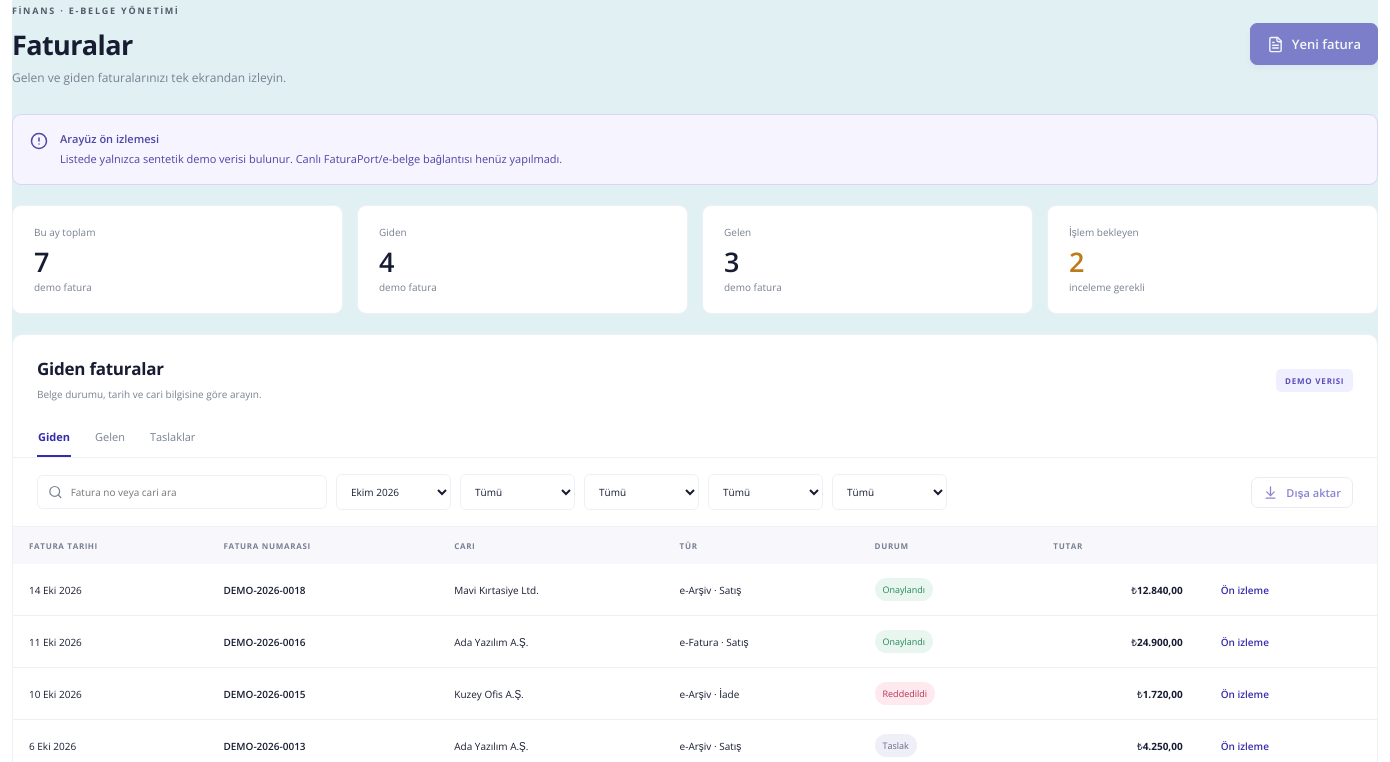
it: shows the outgoing demo list and filters by invoice or account name
Expected: the text "DEMO-2026-0018" is shown, [223,583,306,597]
Type "Mavi Kırtasiye" into the field named "Fatura ara" at (193, 492), box [71,476,316,508]
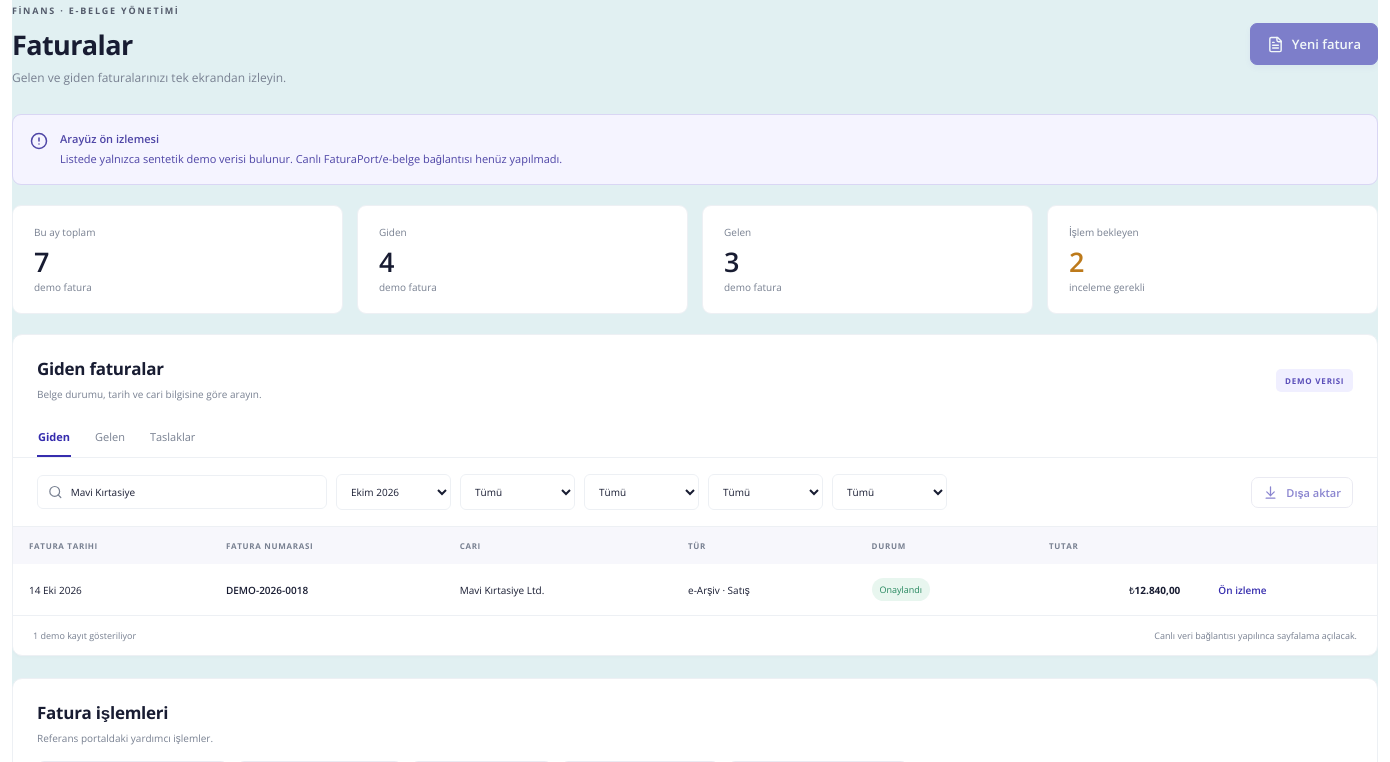
Expected: the text "DEMO-2026-0018" is shown, [226,583,308,597]
Result: the text "DEMO-2026-0016" is gone
